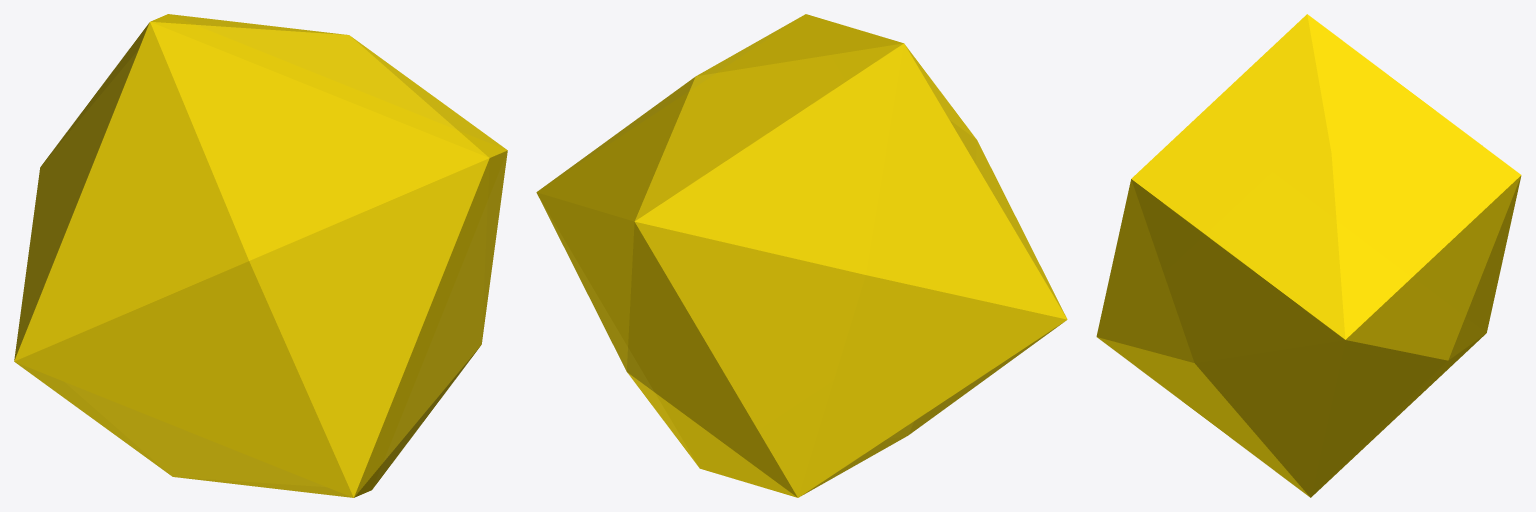
Rendered from EndGoal.obj.
3 views of the same model, side by side, from view 1: azimuth 30°, elevation 25°; view 2: azimuth 150°, elevation 25°; view 3: azimuth 270°, elevation 25° (orthographic). The views are drawn at different scales.
Parts seen in each view (by area): view 1: object_2, object_6, object_4, object_5, object_7; view 2: object_7, object_4, object_3, object_2, object_5; view 3: object_4, object_6, object_3.
Part boxes in pixels (left/top/right/bottom): object_2: left=14, top=22, right=489, bottom=497; object_6: left=354, top=150, right=507, bottom=497; object_4: left=150, top=14, right=507, bottom=157; object_5: left=15, top=362, right=352, bottom=497; object_7: left=14, top=22, right=149, bottom=360; object_7: left=634, top=43, right=1067, bottom=497; object_4: left=537, top=14, right=903, bottom=221; object_3: left=536, top=192, right=797, bottom=497; object_2: left=905, top=45, right=1066, bottom=317; object_5: left=801, top=322, right=1063, bottom=495; object_4: left=1131, top=14, right=1520, bottom=339; object_6: left=1096, top=179, right=1345, bottom=497; object_3: left=1311, top=175, right=1521, bottom=497.
Size of the model in its own units: 3.41 by 3.16 by 3.04.
